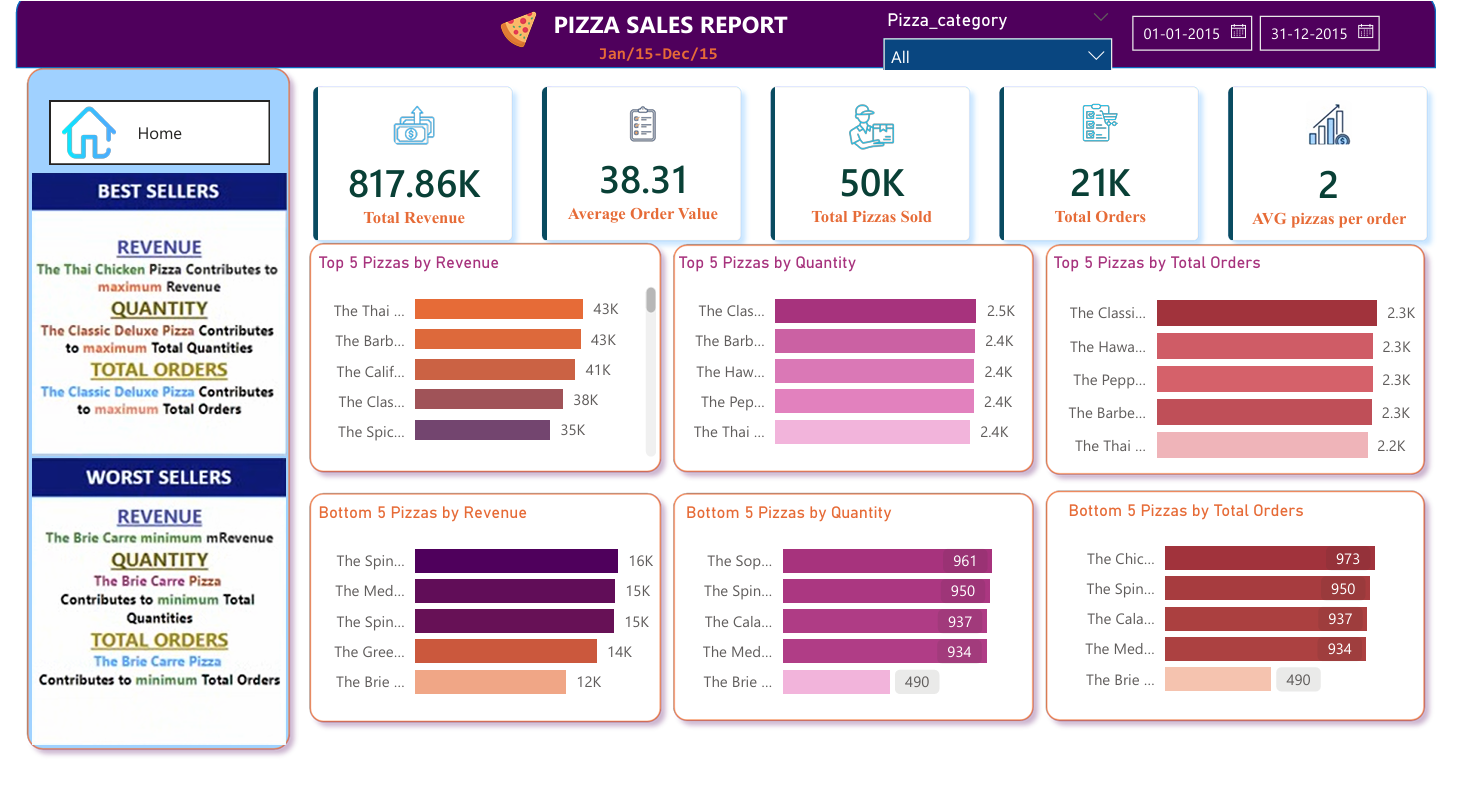

This screenshot's page, from the dashboard's own definition file:
{"tool":"powerbi","page":{"name":"Best/Worst Sellers","canvas":[1280,720],"ordinal":1},"visuals":[{"type":"cardVisual","fields":{"Data":["pizza_sales.Total Revenue","pizza_sales.Average Order Value","pizza_sales.Total Pizzas Sold","pizza_sales.Total Orders","pizza_sales.Avg pizzas per order"]},"box":[196.8,27.4,975.8,204.2],"z":0},{"type":"shape","box":[0,-6.7,1135.6,60],"z":1000},{"type":"textbox","box":[425.3,0,198.9,44.2],"z":2000},{"type":"textbox","box":[461.1,27.4,132.6,32.6],"z":3000},{"type":"image","box":[380,7,44,30],"z":4000},{"type":"shape","box":[226.3,184.2,298.9,201.1],"z":5000},{"type":"shape","box":[0,44.2,228.4,563.2],"z":6000},{"type":"slicer","fields":{"Values":["pizza_sales.pizza_category"]},"box":[684.2,1.1,203.2,52.6],"z":7000},{"type":"slicer","fields":{"Values":["pizza_sales.order_date"]},"box":[880,1.1,228.4,58.9],"z":8000},{"type":"shape","box":[516.8,185.3,306.3,200],"z":9000},{"type":"shape","box":[814.7,185.3,321.1,202.1],"z":10000},{"type":"shape","box":[226.3,384.2,298.9,201.1],"z":11000},{"type":"shape","box":[516.8,384.2,306.3,200],"z":12000},{"type":"shape","box":[814.7,382.1,321.1,202.1],"z":13000},{"type":"clusteredBarChart","title":"Top 5 Pizzas by Revenue","fields":{"Category":["pizza_sales.pizza_name"],"Y":["pizza_sales.Total Revenue"]},"box":[236.8,201.1,280,168.4],"z":14000},{"type":"clusteredBarChart","title":"Bottom 5 Pizzas by Revenue","fields":{"Category":["pizza_sales.pizza_name"],"Y":["pizza_sales.Total Revenue"]},"box":[236.8,401.1,280,168.4],"z":15000},{"type":"clusteredBarChart","title":"Top 5 Pizzas by Quantity","fields":{"Category":["pizza_sales.pizza_name"],"Y":["pizza_sales.Total Pizzas Sold"]},"box":[525.3,201.1,280,168.4],"z":16000},{"type":"clusteredBarChart","title":"Bottom 5 Pizzas by Quantity","fields":{"Category":["pizza_sales.pizza_name"],"Y":["pizza_sales.Total Pizzas Sold"]},"box":[530.5,401.1,280,168.4],"z":17000},{"type":"clusteredBarChart","title":"Top 5 Pizzas by Total Orders","fields":{"Category":["pizza_sales.pizza_name"],"Y":["pizza_sales.Total Orders"]},"box":[825.3,201.1,302.1,181.1],"z":18000},{"type":"clusteredBarChart","title":"Bottom 5 Pizzas by Total Orders","fields":{"Category":["pizza_sales.pizza_name"],"Y":["pizza_sales.Total Pizzas Sold"]},"box":[836.8,398.9,280,168.4],"z":19000},{"type":"image","box":[13.3,104.4,203.3,291.1],"z":20000},{"type":"image","box":[12.6,351.6,203.2,255.8],"z":21000},{"type":"image","box":[114.4,92.2,61.1,23.3],"z":22000},{"type":"pageNavigator","box":[26.7,78.9,176.7,51.1],"z":23000},{"type":"image","box":[36.7,68.9,43.3,70],"z":24000}]}

Visuals, with their boxes on the page's 1280x720 design canvas (x1, y1, x2, y2). These are canvas units, not pixel positions in the 1466x787 screenshot, which may show the page scaled, cropped or inside an application window:
cardVisual - pizza_sales.Total Revenue x pizza_sales.Average Order Value: [left=197, top=27, right=1173, bottom=232]
shape: [left=0, top=-7, right=1136, bottom=53]
textbox: [left=425, top=0, right=624, bottom=44]
textbox: [left=461, top=27, right=594, bottom=60]
image: [left=380, top=7, right=424, bottom=37]
shape: [left=226, top=184, right=525, bottom=385]
shape: [left=0, top=44, right=228, bottom=607]
slicer - pizza_sales.pizza_category: [left=684, top=1, right=887, bottom=54]
slicer - pizza_sales.order_date: [left=880, top=1, right=1108, bottom=60]
shape: [left=517, top=185, right=823, bottom=385]
shape: [left=815, top=185, right=1136, bottom=387]
shape: [left=226, top=384, right=525, bottom=585]
shape: [left=517, top=384, right=823, bottom=584]
shape: [left=815, top=382, right=1136, bottom=584]
"Top 5 Pizzas by Revenue" clusteredBarChart: [left=237, top=201, right=517, bottom=370]
"Bottom 5 Pizzas by Revenue" clusteredBarChart: [left=237, top=401, right=517, bottom=570]
"Top 5 Pizzas by Quantity" clusteredBarChart: [left=525, top=201, right=805, bottom=370]
"Bottom 5 Pizzas by Quantity" clusteredBarChart: [left=530, top=401, right=810, bottom=570]
"Top 5 Pizzas by Total Orders" clusteredBarChart: [left=825, top=201, right=1127, bottom=382]
"Bottom 5 Pizzas by Total Orders" clusteredBarChart: [left=837, top=399, right=1117, bottom=567]
image: [left=13, top=104, right=217, bottom=396]
image: [left=13, top=352, right=216, bottom=607]
image: [left=114, top=92, right=176, bottom=116]
pageNavigator: [left=27, top=79, right=203, bottom=130]
image: [left=37, top=69, right=80, bottom=139]
